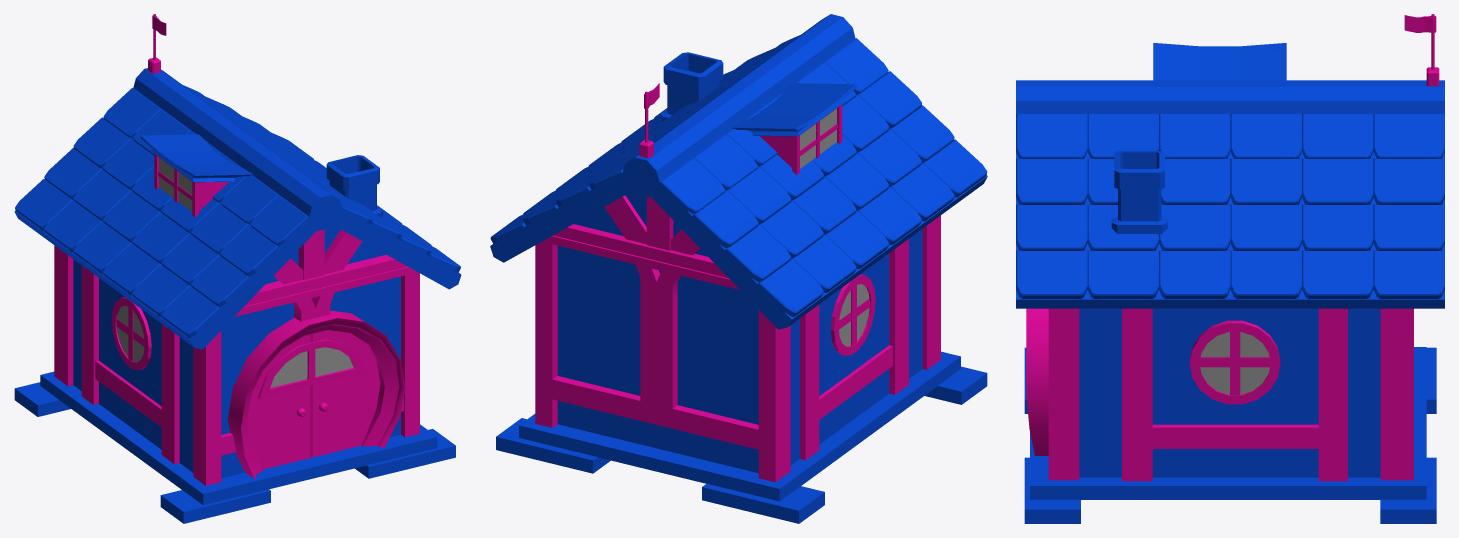
File: House01.fbx
3 views of the same model, side by side, from view 1: azimuth 30°, elevation 25°; view 2: azimuth 150°, elevation 25°; view 3: azimuth 270°, elevation 25° (orthographic). The views are drawn at different scales.
Visible parts, largest first — view 1: House01, Object004, Object005; view 2: House01; view 3: House01.
Boxes of the visible parts, x1,y1,x2,y2 form: House01: (14, 14, 461, 523); Object004: (310, 330, 380, 457); Object005: (247, 334, 311, 469); House01: (490, 14, 987, 523); House01: (1016, 14, 1444, 523).
Bounding box in the file's own units: 354 × 432 × 391.
